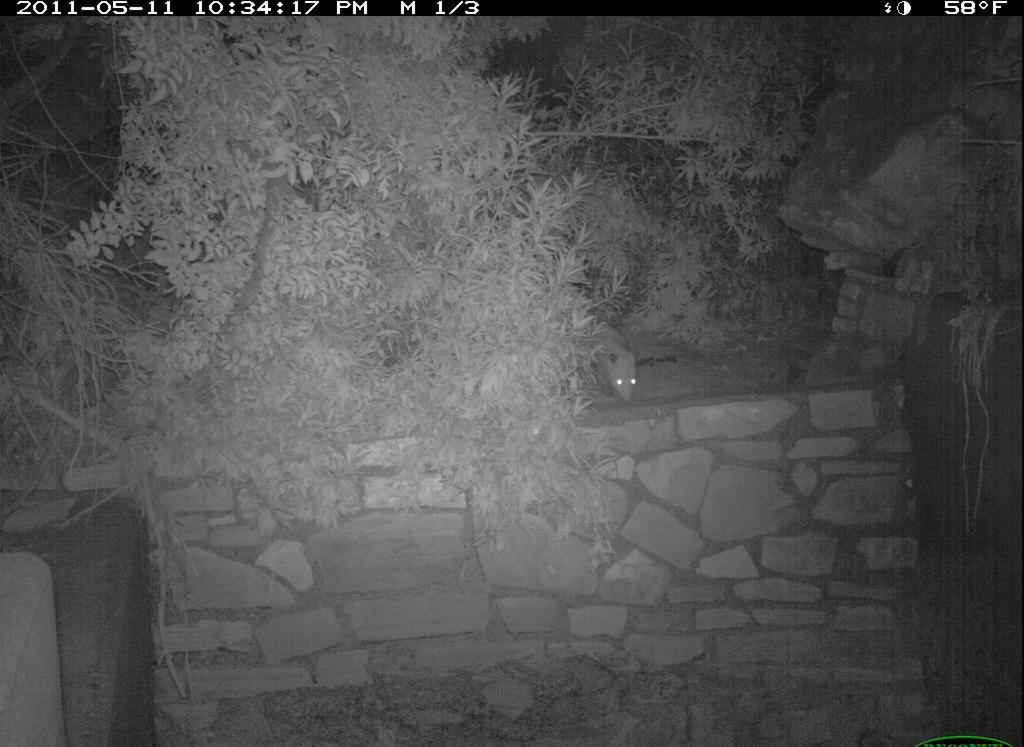opossum: (569, 303, 642, 409)
